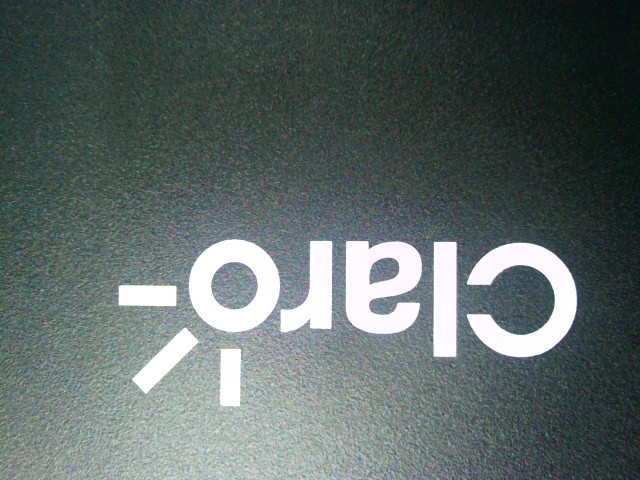BC_Claor: (108, 229, 589, 405)
